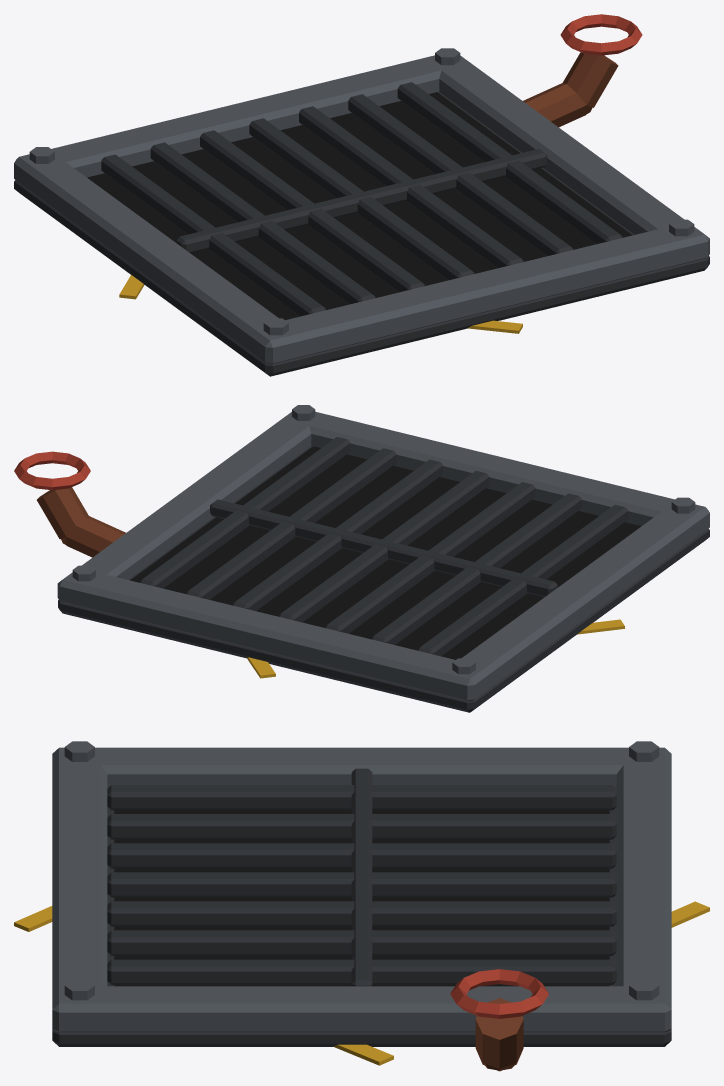
File: vent.glb
3 views of the same model, one above another, from view 1: azimuth 30°, elevation 25°; view 2: azimuth 150°, elevation 25°; view 3: azimuth 270°, elevation 25° (orthographic). The views are drawn at different scales.
Visible parts, largest first — view 1: Vent; view 2: Vent; view 3: Vent.
Boxes of the visible parts, x1,y1,x2,y2 form: Vent: (14,14,709,376); Vent: (14,405,709,712); Vent: (14,741,709,1071).
Size of the model in its own units: 1.18 by 0.1763 by 1.01.
